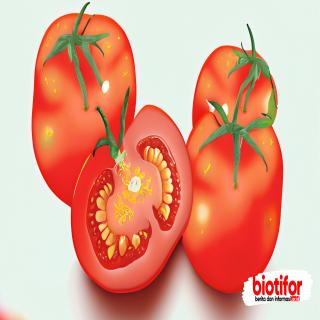Tomat: (183, 27, 285, 295), (32, 3, 138, 209)
